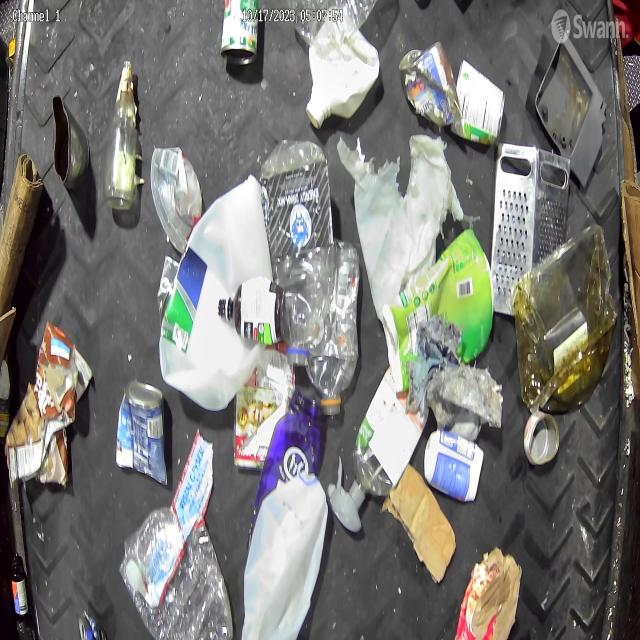can: (115, 379, 168, 484), (449, 58, 506, 146), (400, 43, 457, 129), (52, 94, 90, 185), (220, 0, 258, 63), (525, 409, 562, 467), (79, 610, 107, 640)
milk_jug: (158, 175, 272, 411), (244, 466, 326, 640)
plastic_bottle: (260, 137, 334, 367), (295, 244, 361, 418), (350, 380, 426, 508)
